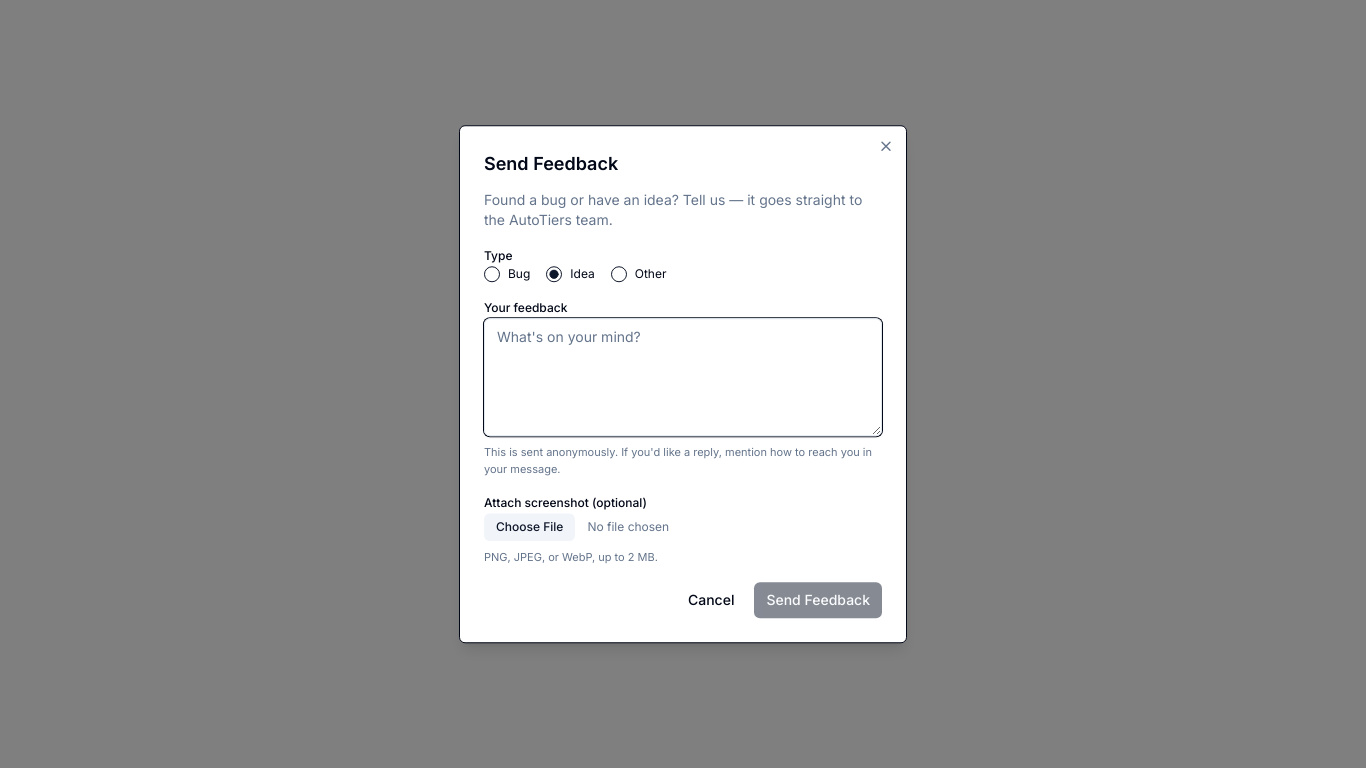
Test case: FeedbackDialog › shows the generic image-rejected message on a 422 with a non-JSON body
Type "image fails server-side" into the text box labelled "Your feedback".
click(683, 377); type("image fails server-side")  # box [484, 318, 882, 436]
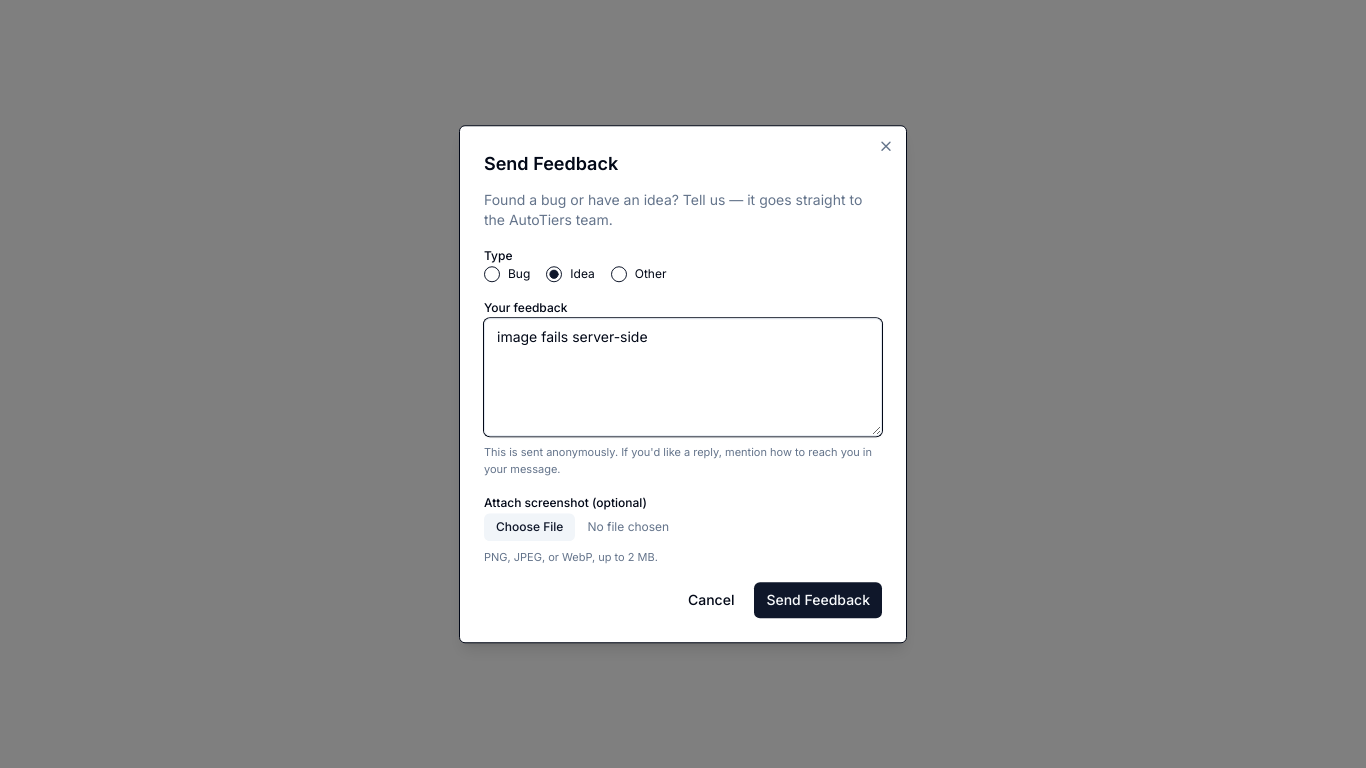
Click the button "Send Feedback".
click(818, 600)  # box [754, 582, 882, 618]
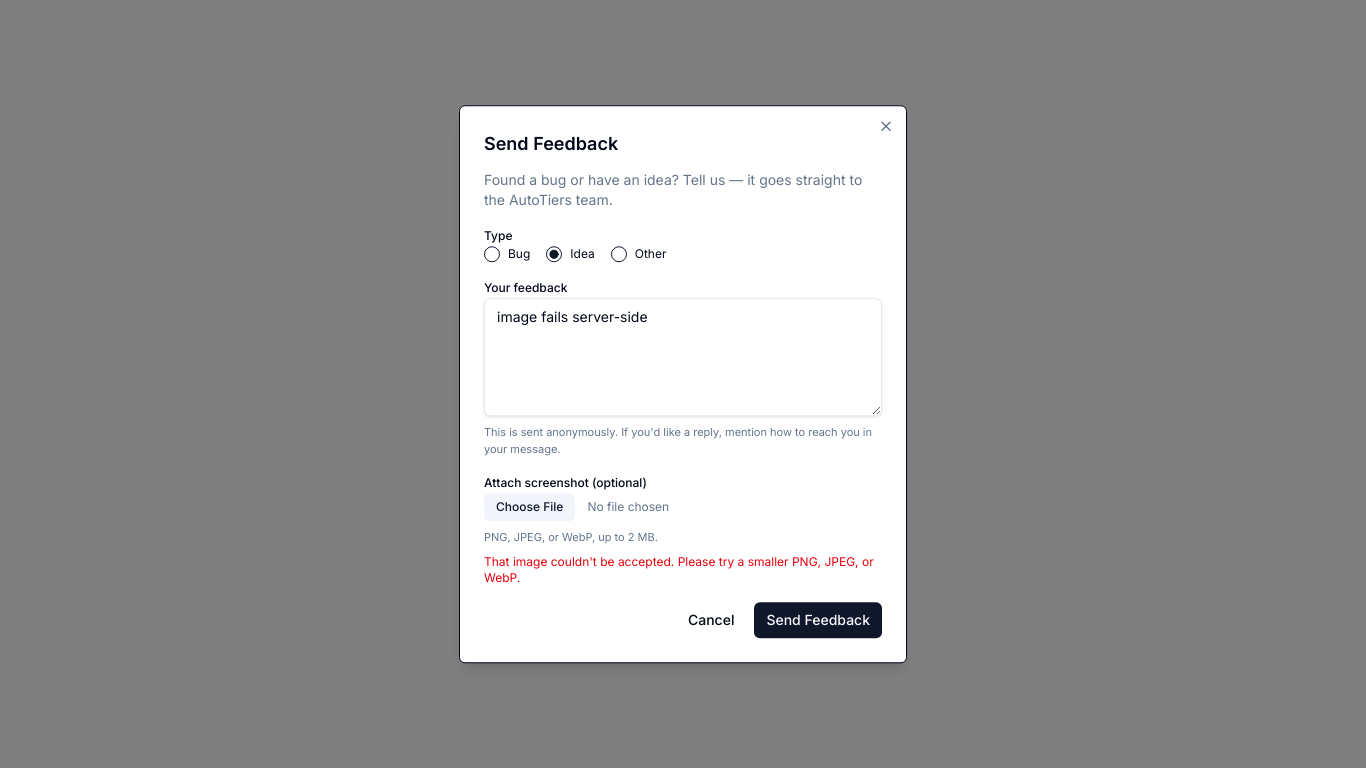
Result: the message shows "couldn't be accepted" at [484, 554, 874, 585]
